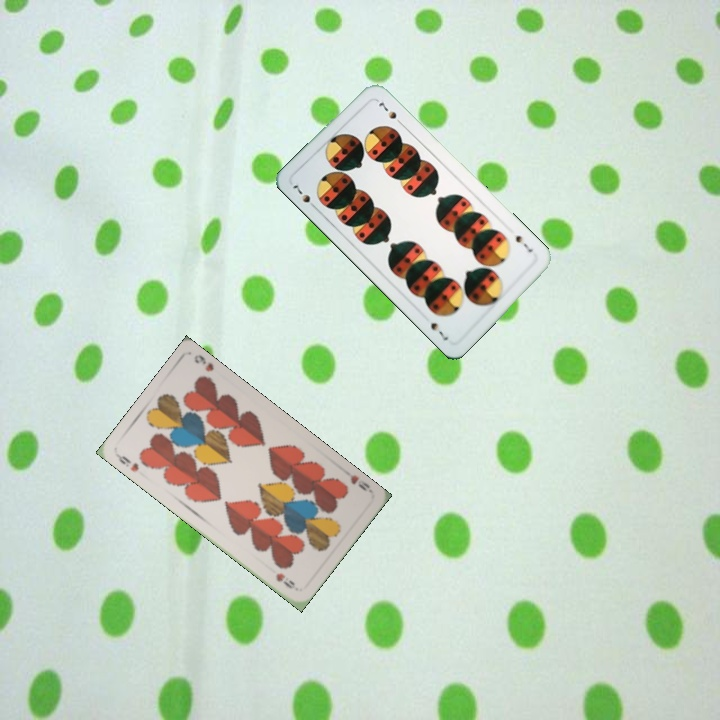H9: (339, 466, 374, 495), (113, 450, 141, 474)
S7: (288, 181, 320, 212), (510, 229, 536, 255)
